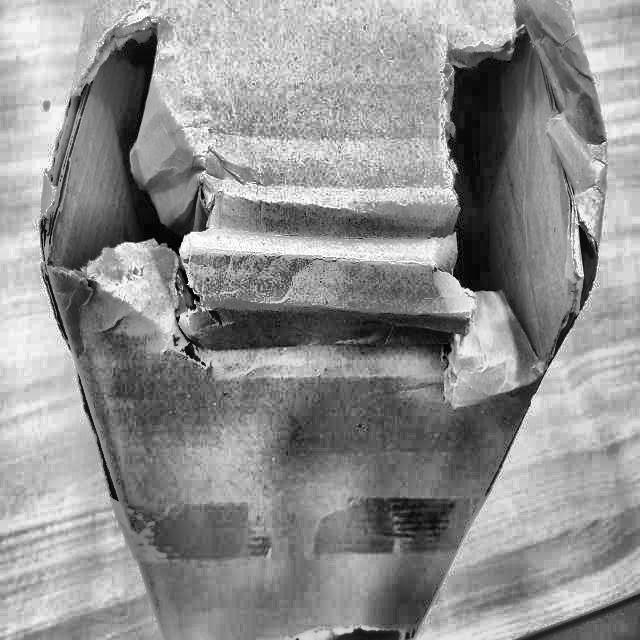box: (22, 0, 626, 639)
hole: (427, 20, 587, 366), (52, 38, 210, 368)
